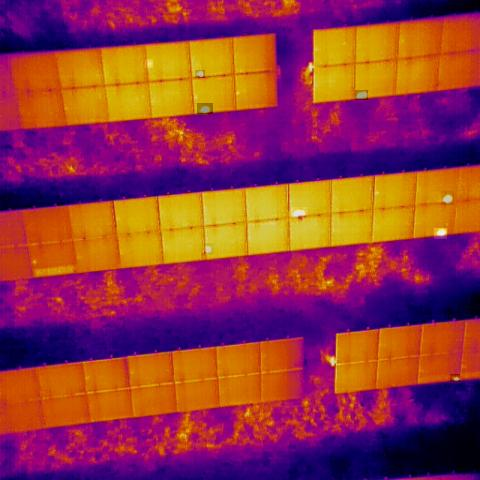fault: (32, 263, 76, 280), (291, 207, 308, 218), (441, 191, 454, 205), (198, 103, 214, 114), (434, 228, 447, 239), (355, 90, 368, 100), (204, 243, 214, 254), (195, 70, 205, 78), (450, 374, 460, 382), (145, 59, 153, 68)
